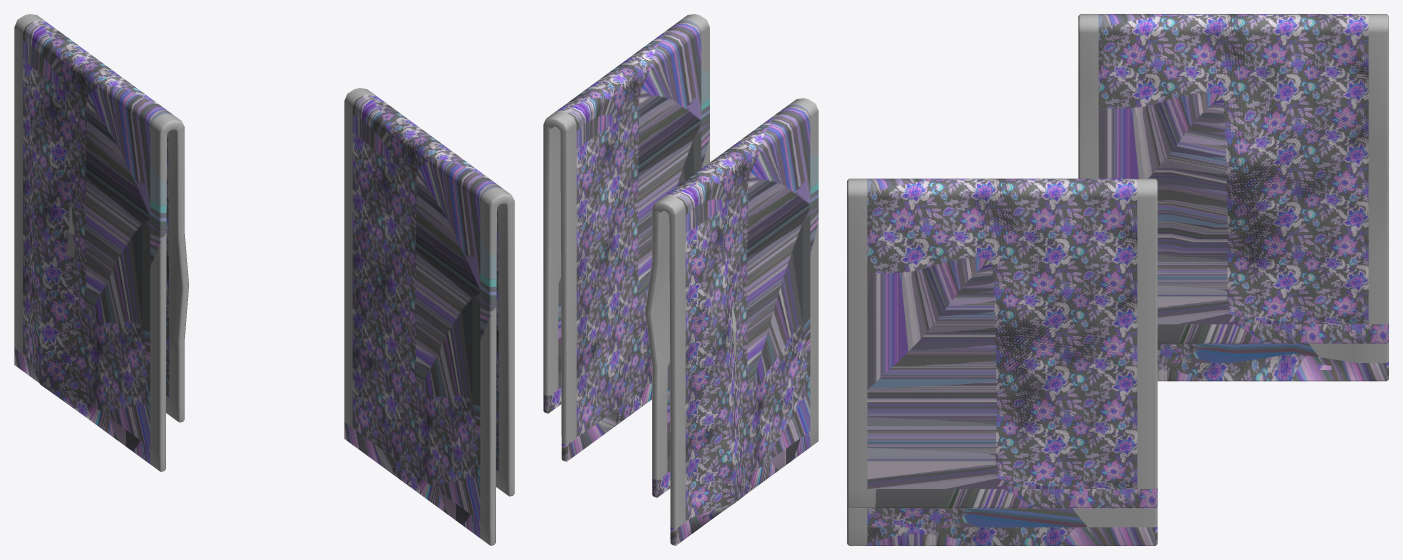
Rendered from TowelF.fbx.
3 renders of one model, left to right at view 1: azimuth 30°, elevation 25°; view 2: azimuth 150°, elevation 25°; view 3: azimuth 270°, elevation 25°, orthographic. The views are drawn at different scales.
Visible parts, largest first — view 1: towel02, towel01; view 2: towel02, towel01; view 3: towel01, towel02.
Part boxes in pixels (left/top/right/bottom): towel02: left=14, top=14, right=188, bottom=471; towel01: left=344, top=88, right=514, bottom=545; towel02: left=645, top=98, right=818, bottom=545; towel01: left=543, top=14, right=709, bottom=461; towel01: left=847, top=178, right=1157, bottom=545; towel02: left=1078, top=14, right=1388, bottom=381.
Bounding box in the file's own units: 33.29 × 47.73 × 55.82.
